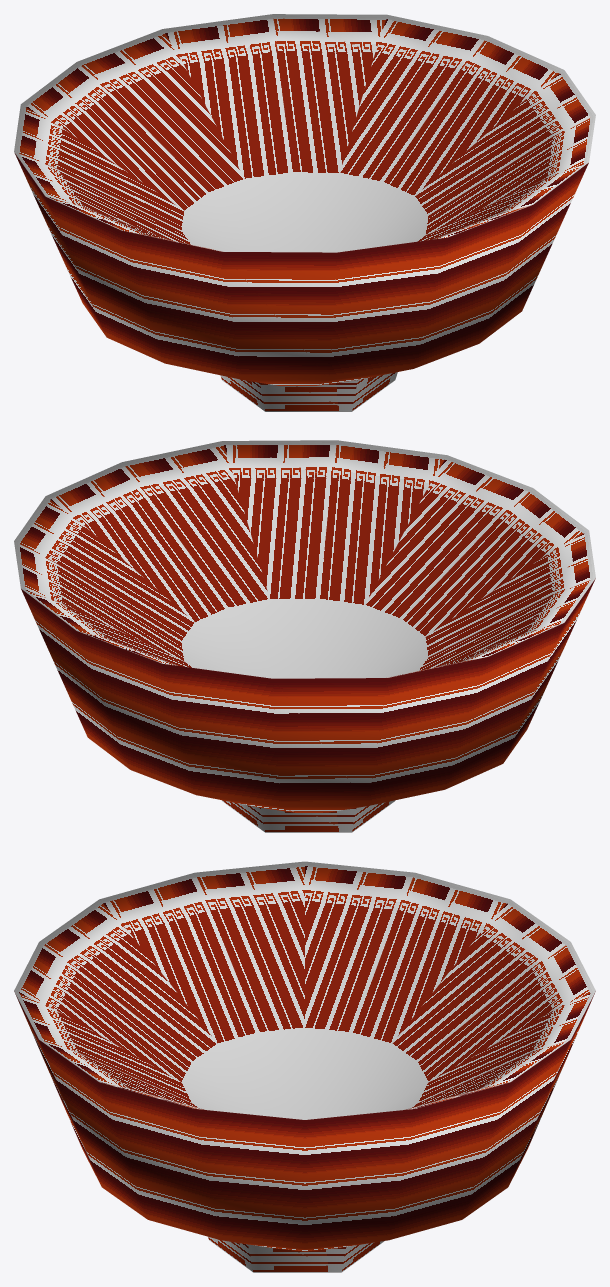
File: ramen.gltf
The picture shows the model from 3 angles, top to bottom: view 1: azimuth 30°, elevation 25°; view 2: azimuth 150°, elevation 25°; view 3: azimuth 270°, elevation 25°; orthographic projection. The views are drawn at different scales.
Parts seen in each view (by area): view 1: ramen; view 2: ramen; view 3: ramen.
Part boxes in pixels (box(x1,y1,x2,y2)): ramen: box(14, 14, 595, 411); ramen: box(14, 440, 595, 832); ramen: box(14, 861, 595, 1272).
Size of the model in its own units: 0.7798 by 0.3689 by 0.7417.
1 material, 1 textured.
